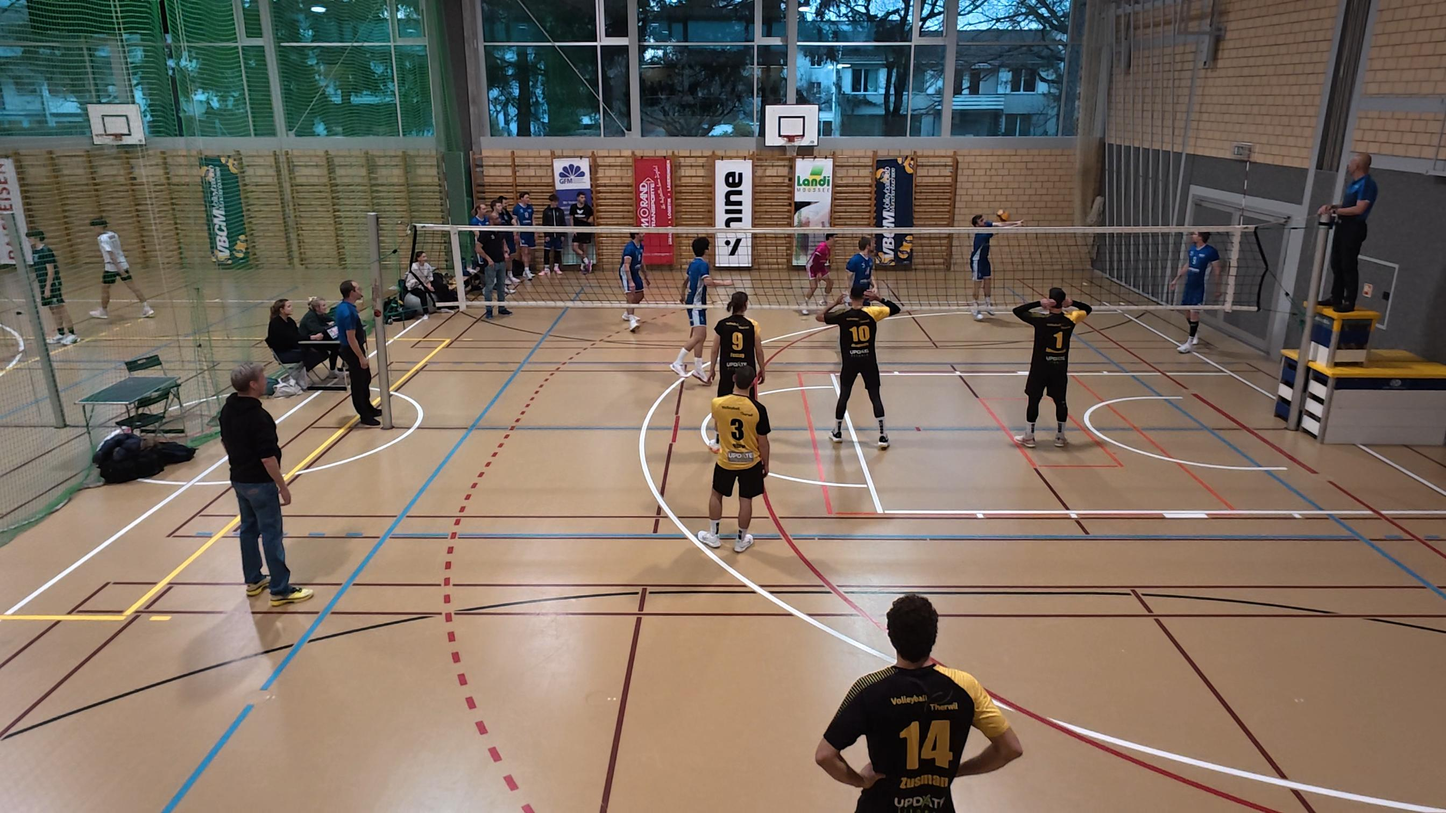Player: (816, 595, 1023, 812), (696, 367, 772, 553), (817, 285, 902, 449), (1009, 288, 1091, 447), (675, 237, 723, 383), (712, 290, 765, 393), (616, 230, 649, 332), (799, 231, 835, 316), (844, 236, 875, 303)
Receive: (966, 202, 1020, 323)
ball: (994, 207, 1012, 225)
